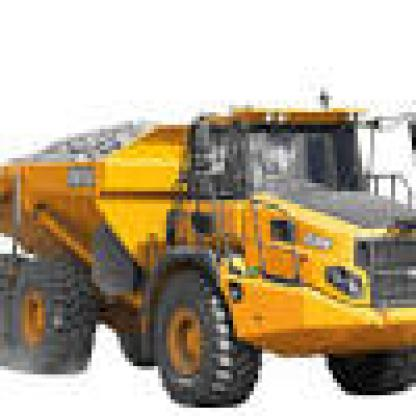dump_truck: (0, 62, 412, 408)
